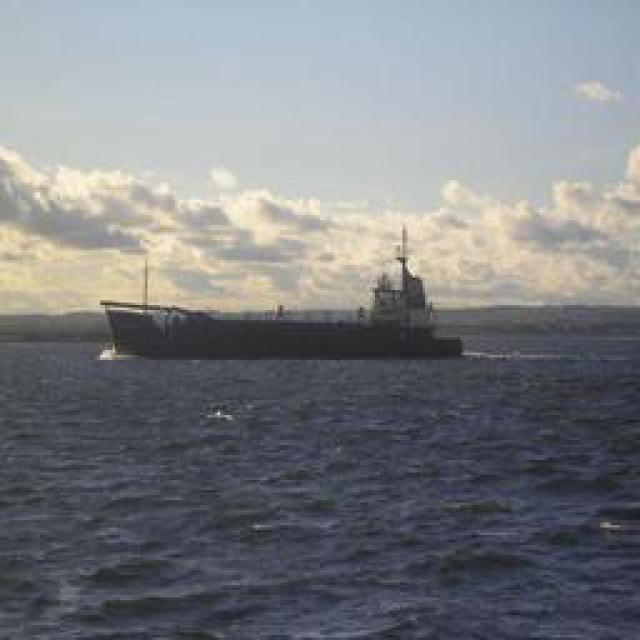Ship: (107, 236, 457, 361)
